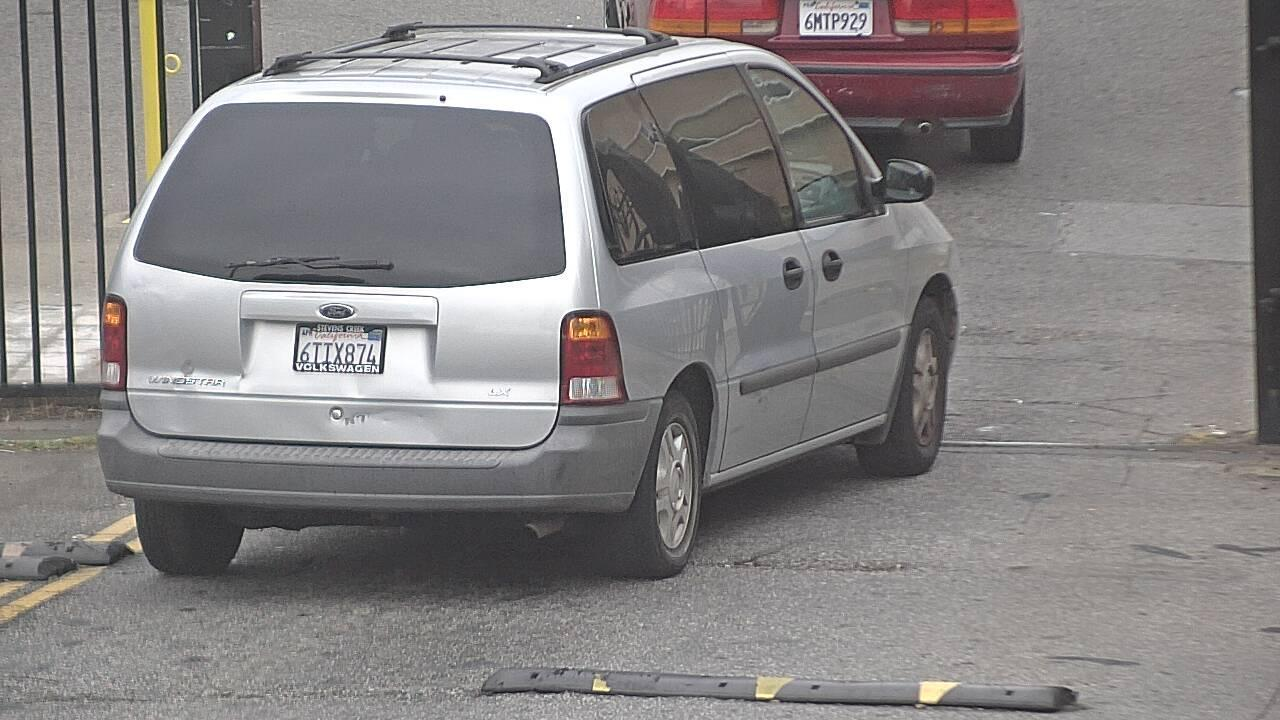placa de veiculo: (260, 290, 396, 392), (789, 0, 872, 64)
